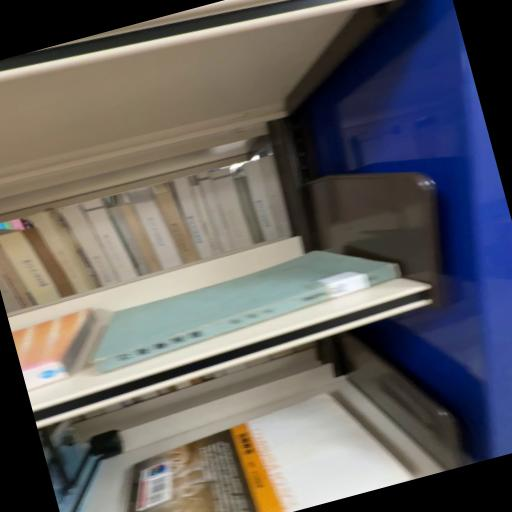flat: (92, 251, 401, 374), (128, 395, 412, 512)
